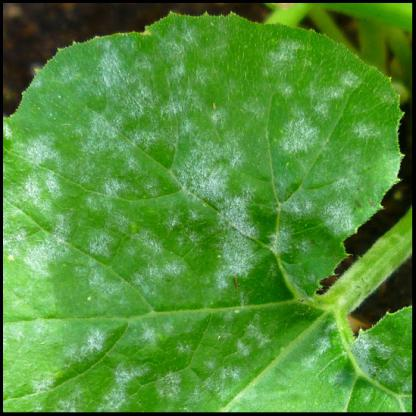squash powdery mildew leaf: (5, 4, 408, 409)
